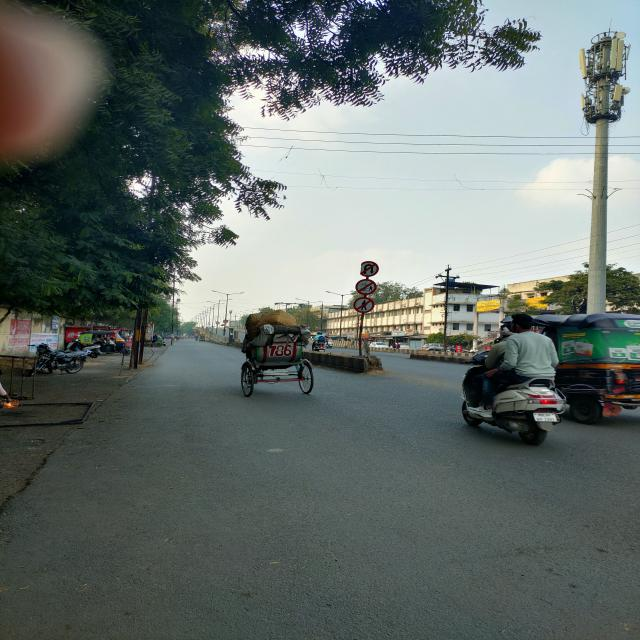CYCLE_PROHIBITED: (356, 279, 378, 296)
